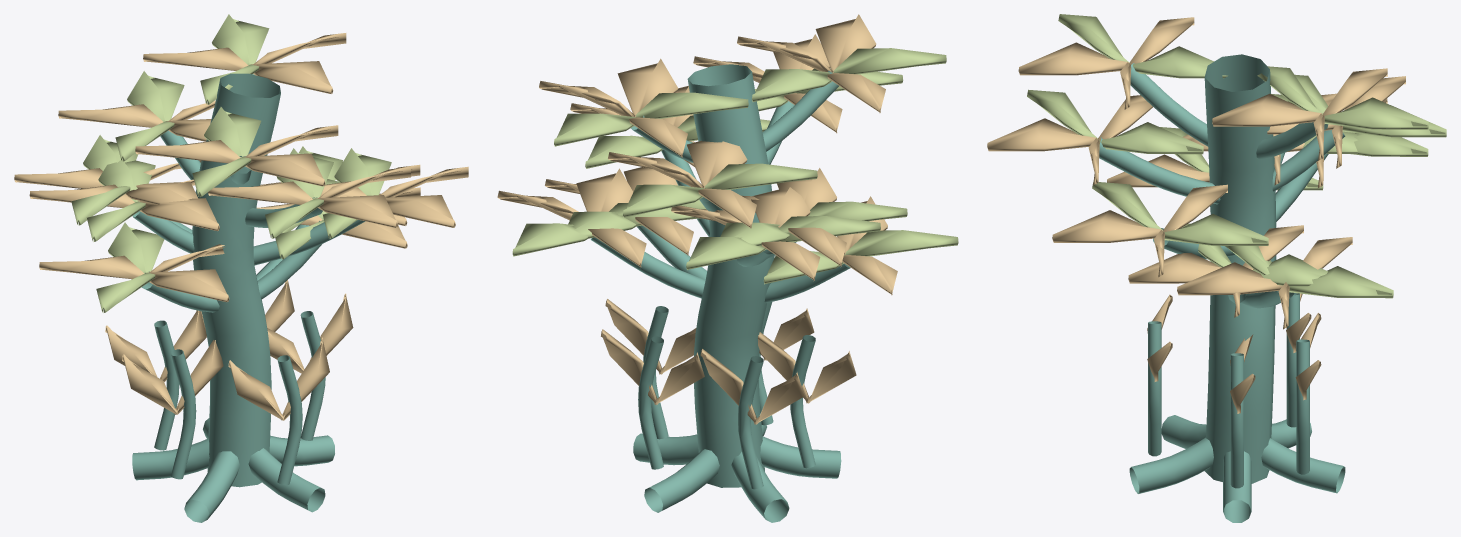
The model's file is bio_canopy_tree_22_far.glb.
The picture shows the model from 3 angles, left to right: view 1: azimuth 30°, elevation 25°; view 2: azimuth 150°, elevation 25°; view 3: azimuth 270°, elevation 25°; orthographic projection. The views are drawn at different scales.
Parts seen in each view (by area): view 1: Buttressed trunk, Broad canopy leaf.035, Broad canopy leaf.015, Broad canopy leaf.010, Broad canopy leaf.020, Broad canopy leaf.005, Broad canopy leaf.045, Broad canopy leaf.036, Broad canopy leaf.025, Broad canopy leaf.021, Broad canopy leaf.031, Broad canopy leaf.030 (+16 smaller); view 2: Buttressed trunk, Broad canopy leaf.035, Broad canopy leaf.015, Broad canopy leaf.030, Broad canopy leaf.016, Broad canopy leaf.031, Broad canopy leaf.036, Broad canopy leaf.040, Broad canopy leaf.005, Broad canopy leaf.006, Broad canopy leaf.021, Broad canopy leaf.046 (+18 smaller); view 3: Buttressed trunk, Broad canopy leaf.035, Broad canopy leaf.015, Broad canopy leaf.025, Broad canopy leaf.010, Broad canopy leaf.011, Broad canopy leaf.026, Broad canopy leaf.040, Broad canopy leaf.016, Broad canopy leaf.036, Broad canopy leaf, Broad canopy leaf.041 (+13 smaller).
Boxes of the visible parts, x1=… form: Buttressed trunk: x1=132, y1=73, x2=365, y2=522; Broad canopy leaf.035: x1=135, y1=125, x2=338, y2=186; Broad canopy leaf.015: x1=143, y1=33, x2=346, y2=93; Broad canopy leaf.010: x1=208, y1=166, x2=410, y2=227; Broad canopy leaf.020: x1=39, y1=244, x2=229, y2=302; Broad canopy leaf.005: x1=14, y1=160, x2=201, y2=204; Broad canopy leaf.045: x1=29, y1=179, x2=219, y2=231; Broad canopy leaf.036: x1=192, y1=107, x2=261, y2=197; Broad canopy leaf.025: x1=321, y1=166, x2=468, y2=227; Broad canopy leaf.021: x1=96, y1=222, x2=164, y2=312; Broad canopy leaf.031: x1=115, y1=71, x2=184, y2=161; Broad canopy leaf.030: x1=58, y1=100, x2=215, y2=141; Buttressed trunk: x1=590, y1=64, x2=850, y2=522; Broad canopy leaf.035: x1=737, y1=14, x2=885, y2=112; Broad canopy leaf.015: x1=539, y1=58, x2=687, y2=157; Broad canopy leaf.030: x1=608, y1=140, x2=756, y2=228; Broad canopy leaf.016: x1=554, y1=92, x2=748, y2=146; Broad canopy leaf.031: x1=623, y1=163, x2=817, y2=217; Broad canopy leaf.036: x1=752, y1=48, x2=946, y2=101; Broad canopy leaf.040: x1=497, y1=168, x2=646, y2=267; Broad canopy leaf.005: x1=671, y1=187, x2=820, y2=281; Broad canopy leaf.006: x1=686, y1=216, x2=880, y2=269; Broad canopy leaf.021: x1=763, y1=230, x2=958, y2=284; Broad canopy leaf.046: x1=720, y1=201, x2=907, y2=245; Buttressed trunk: x1=1099, y1=54, x2=1345, y2=522; Broad canopy leaf.035: x1=1018, y1=17, x2=1194, y2=109; Broad canopy leaf.015: x1=1212, y1=68, x2=1387, y2=160; Broad canopy leaf.025: x1=1052, y1=184, x2=1227, y2=277; Broad canopy leaf.010: x1=987, y1=95, x2=1152, y2=185; Broad canopy leaf.011: x1=1027, y1=89, x2=1203, y2=154; Broad canopy leaf.026: x1=1092, y1=182, x2=1268, y2=245; Broad canopy leaf.040: x1=1177, y1=237, x2=1352, y2=329; Broad canopy leaf.016: x1=1257, y1=66, x2=1428, y2=129; Broad canopy leaf.036: x1=1058, y1=14, x2=1227, y2=78; Broad canopy leaf: x1=1128, y1=225, x2=1303, y2=317; Broad canopy leaf.041: x1=1225, y1=246, x2=1393, y2=298.
Bounding box in the file's own units: 3.06 × 3.05 × 3.05.
